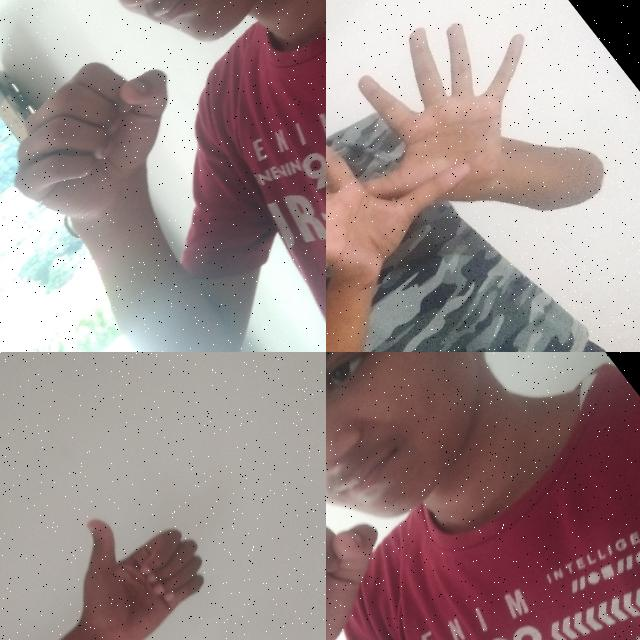Fist Mouth: (0, 0, 326, 286), (326, 352, 623, 640)
Moutza: (326, 0, 594, 260), (326, 47, 501, 346)
Thumbs Up: (6, 467, 246, 640)
